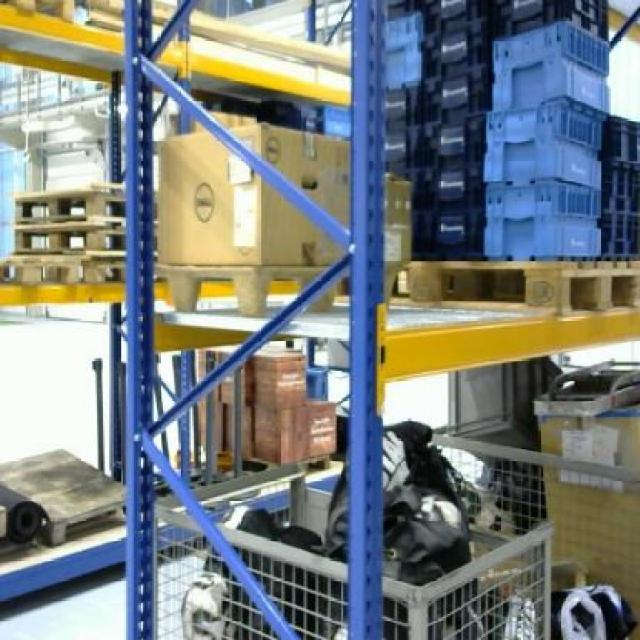box: (156, 120, 356, 265), (254, 354, 308, 412), (254, 411, 308, 467), (308, 400, 336, 458)
